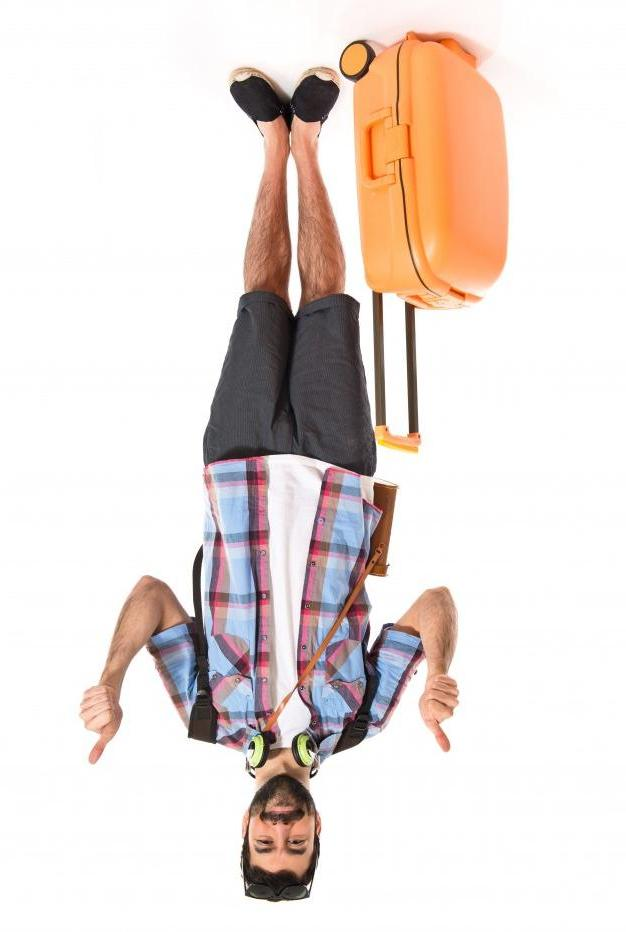thumbsdown: (78, 683, 116, 766), (425, 675, 460, 753)
